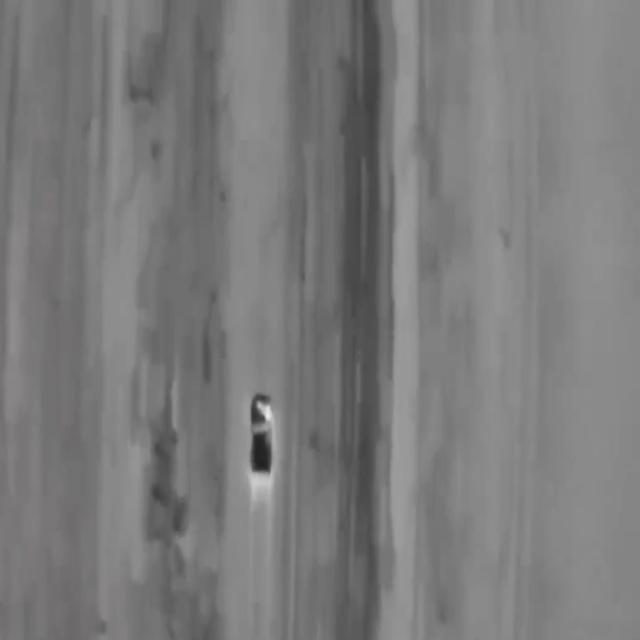vehicle: (250, 389, 274, 477)
